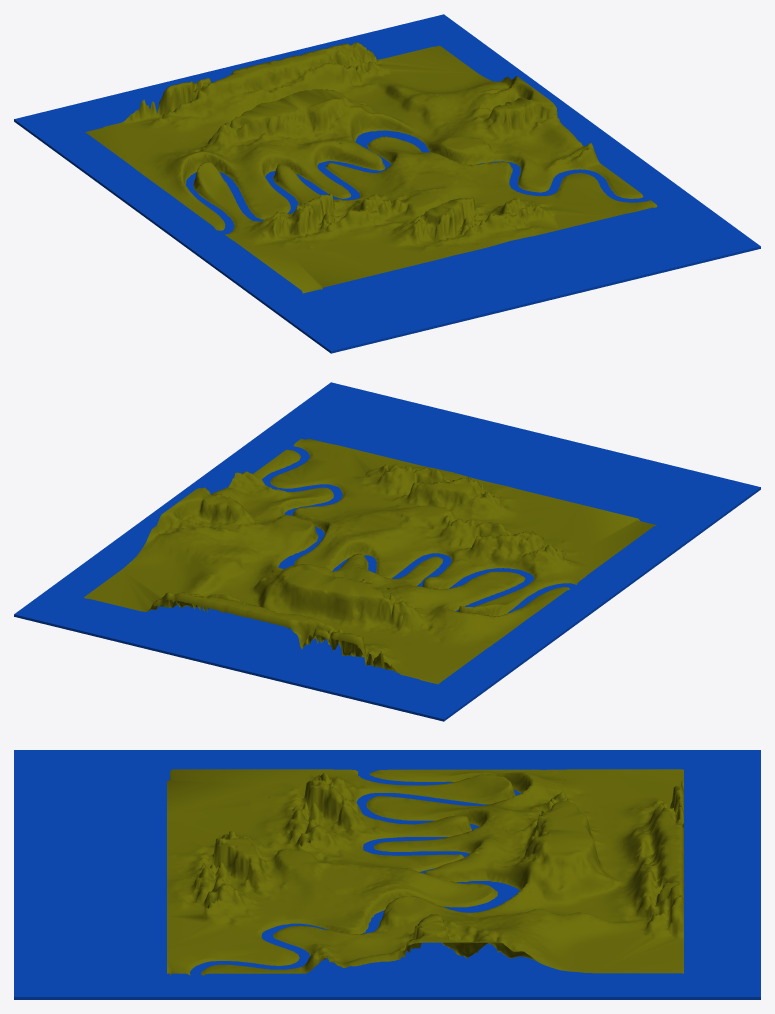
Rendered from terreno_amazonas.glb.
3 views of the same model, one above another, from view 1: azimuth 30°, elevation 25°; view 2: azimuth 150°, elevation 25°; view 3: azimuth 270°, elevation 25° (orthographic). The views are drawn at different scales.
Parts seen in each view (by area): view 1: TerrainBuilderSurface, WATER OCEAN; view 2: TerrainBuilderSurface, WATER OCEAN; view 3: TerrainBuilderSurface, WATER OCEAN.
Boxes of the visible parts, bbox=[...] form: TerrainBuilderSurface: bbox=[85, 42, 657, 293]; WATER OCEAN: bbox=[14, 14, 760, 353]; TerrainBuilderSurface: bbox=[84, 438, 656, 684]; WATER OCEAN: bbox=[14, 382, 760, 721]; TerrainBuilderSurface: bbox=[167, 769, 684, 975]; WATER OCEAN: bbox=[14, 750, 760, 999].
Size of the model in its own units: 2172 by 165 by 2774.
